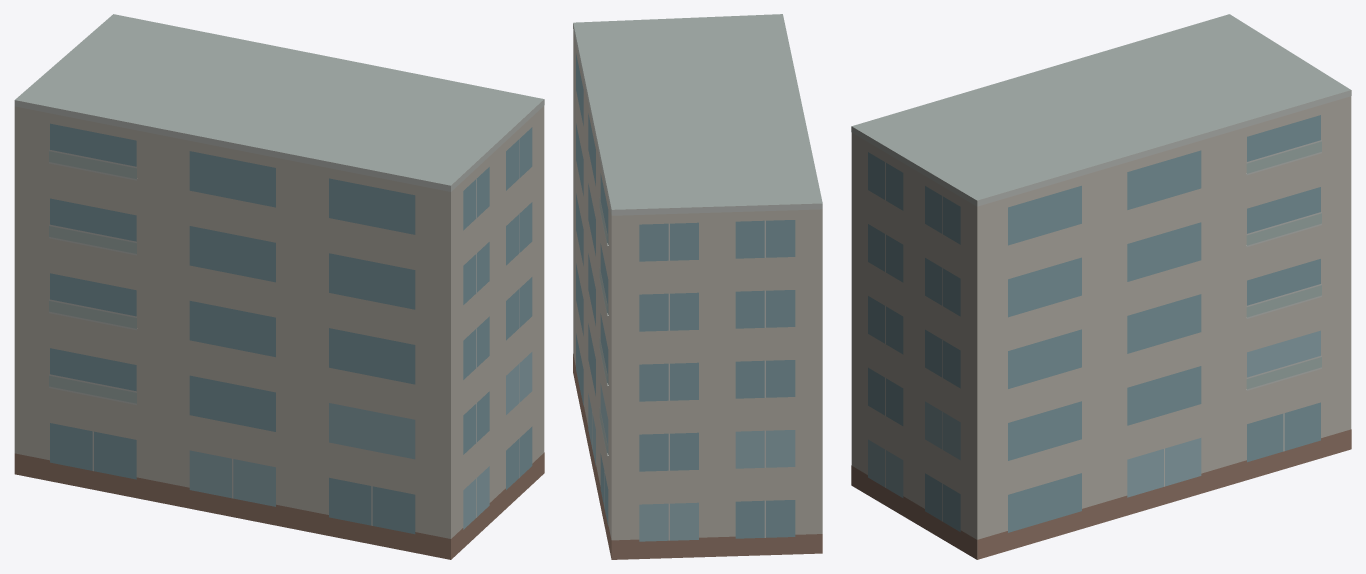
File: survey-upis-32801476.glb
3 views of the same model, side by side, from view 1: azimuth 30°, elevation 25°; view 2: azimuth 150°, elevation 25°; view 3: azimuth 270°, elevation 25° (orthographic). The views are drawn at different scales.
Visible parts, largest first — view 1: survey-upis-32801476.tmp; view 2: survey-upis-32801476.tmp; view 3: survey-upis-32801476.tmp.
Boxes of the visible parts, x1,y1,x2,y2 form: survey-upis-32801476.tmp: (14, 14, 544, 559); survey-upis-32801476.tmp: (573, 14, 822, 559); survey-upis-32801476.tmp: (851, 14, 1351, 559).
Size of the model in its own units: 16.05 by 14.4 by 18.17.
